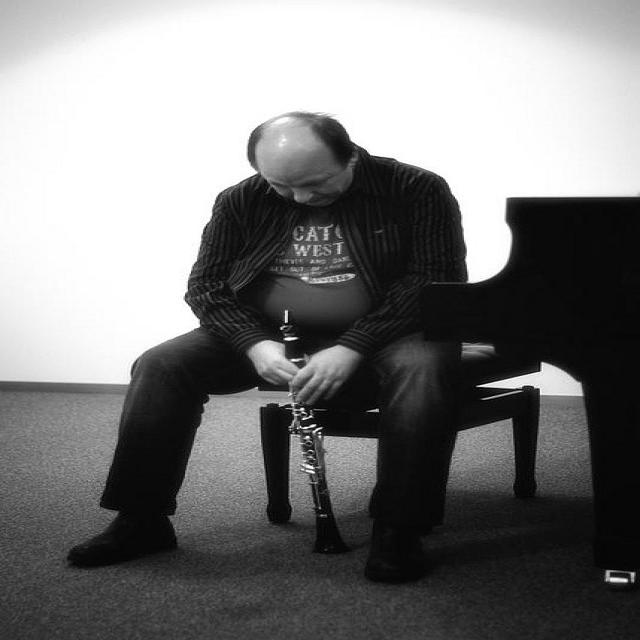clarinet: (278, 308, 360, 556)
